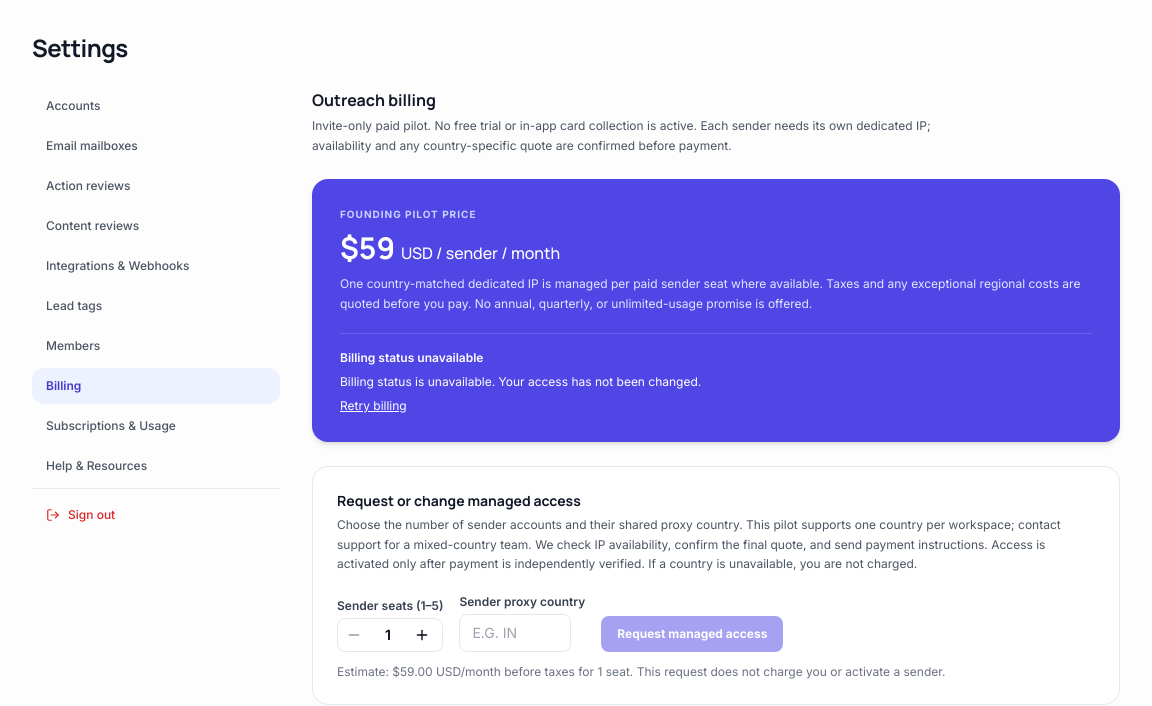
it: OutreachSettings page › does not present a failed billing load as confirmed unpaid access
Click the button "Retry billing" at (373, 406), box x1=340 y1=398 x2=407 y2=414
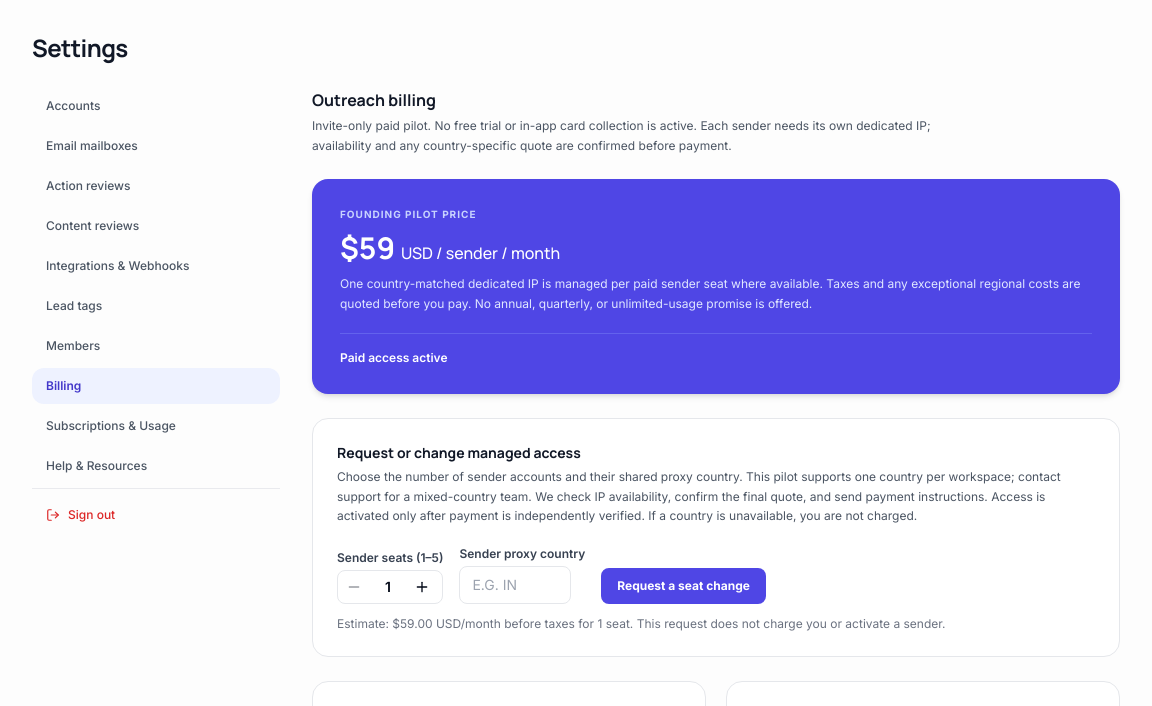
Check: the text "Paid access active" is shown, box x1=340 y1=350 x2=448 y2=365
